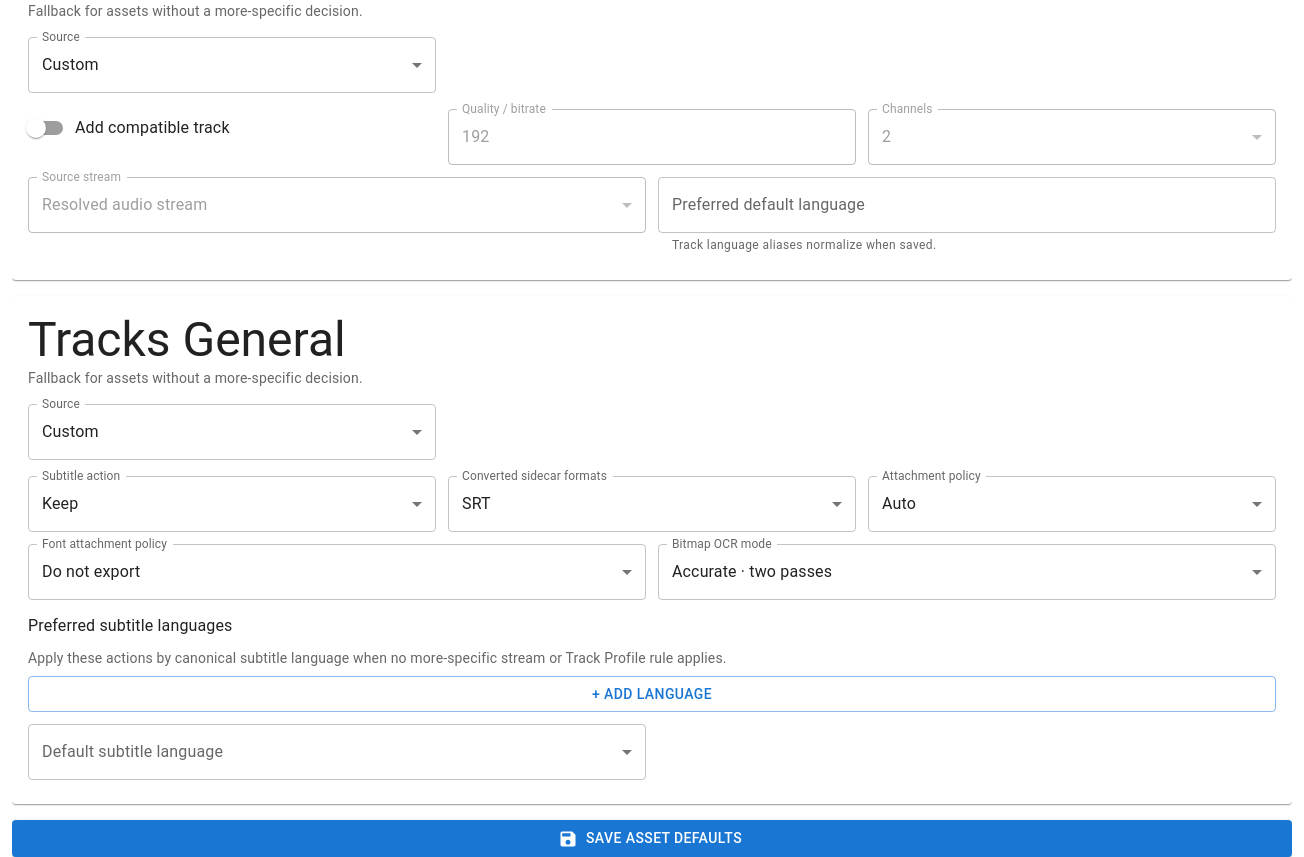
AssetDefaultsCard › allows an empty default subtitle language
(page scrolled)
Click the dropdown named "Default subtitle language". click: (337, 752)
box: x1=28 y1=724 x2=646 y2=780
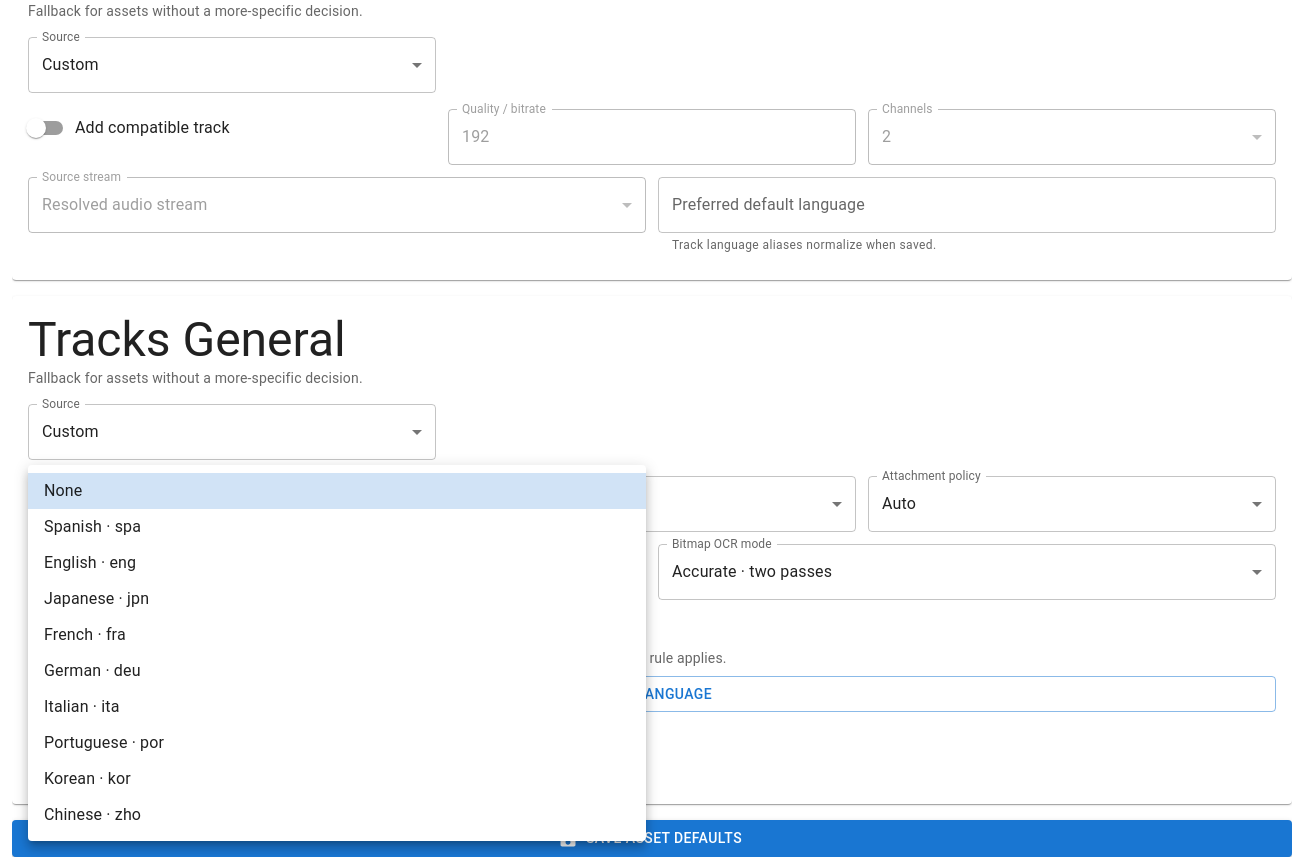
Check: the option "None" is shown, box x1=28 y1=473 x2=646 y2=509
